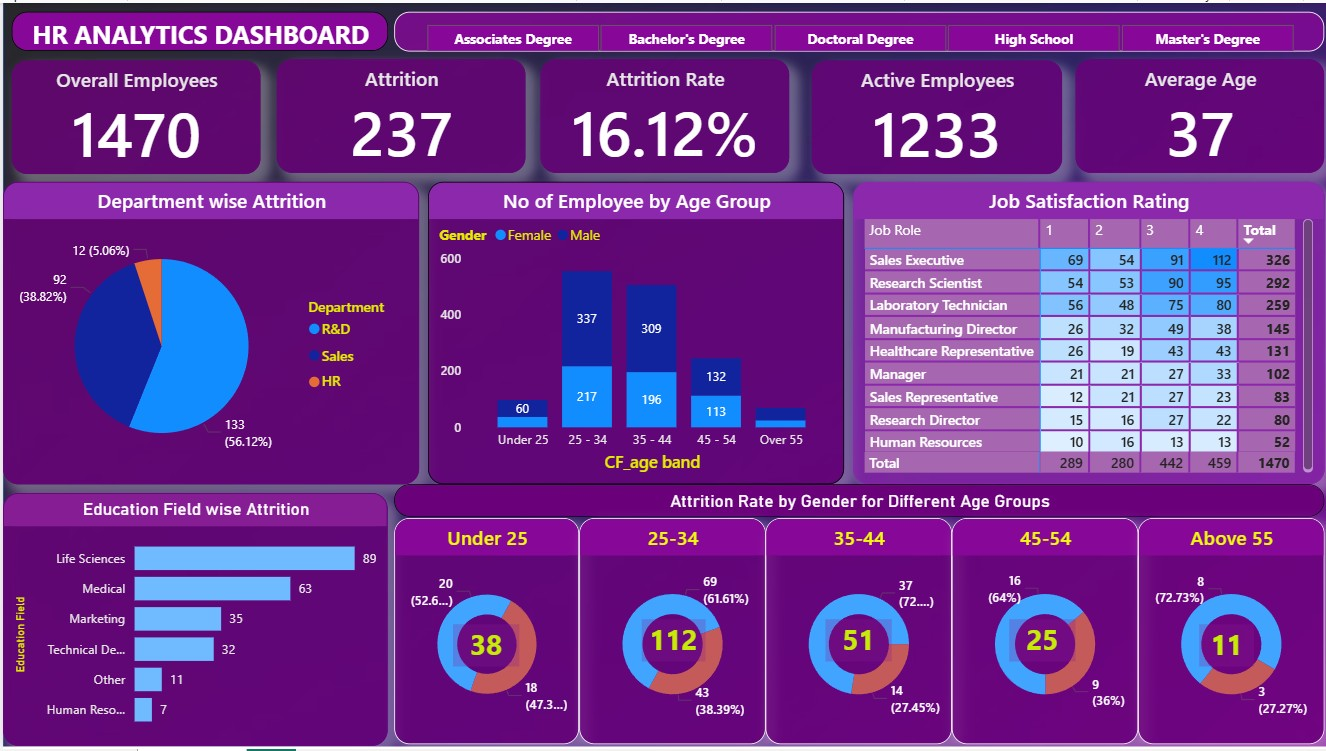

The dashboard page shown, as its layout file describes it:
{"tool":"powerbi","page":{"name":"HR_Data","canvas":[1280,720],"ordinal":0},"visuals":[{"type":"card","title":"Overall Employees","fields":{"Values":["Sum(HR data.Employee Count)"]},"box":[8.4,55.5,240.1,109.8],"z":0},{"type":"card","title":"Attrition","fields":{"Values":["Sum(HR data.Attrition Count)"]},"box":[264.2,54.3,240.1,109.8],"z":1000},{"type":"card","title":"Attrition Rate","fields":{"Values":["HR data.Attrition Rate"]},"box":[518.8,54.3,240.1,109.8],"z":2000},{"type":"card","title":"Active Employees","fields":{"Values":["HR data.Active Employees"]},"box":[780.6,55.5,241.3,109.8],"z":3000},{"type":"card","title":"Average Age","fields":{"Values":["Avg(HR data.Age)"]},"box":[1035.1,54.3,240.1,109.8],"z":4000},{"type":"pieChart","title":"Department wise Attrition ","fields":{"Category":["HR data.Department"],"Y":["Sum(HR data.Attrition Count)"]},"box":[0,172.5,401.7,292],"z":5000},{"type":"columnChart","title":"No of Employee by Age Group","fields":{"Category":["HR data.CF_age band"],"Y":["Sum(HR data.Employee Count)"],"Series":["HR data.Gender"]},"box":[410.2,172.5,401.7,292],"z":6000},{"type":"pivotTable","title":"Job Satisfaction Rating","fields":{"Rows":["HR data.Job Role"],"Values":["Sum(HR data.Employee Count)"],"Columns":["HR data.Job Satisfaction"]},"box":[820.4,172.5,454.8,292],"z":7000},{"type":"barChart","title":"Education Field wise Attrition","fields":{"Category":["HR data.Education Field"],"Y":["Sum(HR data.Attrition Count)"]},"box":[0,472.9,371.6,243.7],"z":8000},{"type":"donutChart","title":"Under 25","fields":{"Category":["HR data.Gender"],"Y":["Sum(HR data.Attrition Count)"],"Series":["HR data.CF_age band"]},"box":[377.6,497.1,178.6,218.4],"z":9000},{"type":"textbox","title":"Attrition Rate by Gender for Different Age Groups","box":[377.6,464.5,897.6,31.4],"z":10000},{"type":"donutChart","title":"25-34","fields":{"Category":["HR data.Gender"],"Y":["Sum(HR data.Attrition Count)"],"Series":["HR data.CF_age band"]},"box":[556.2,497.1,179.8,218.4],"z":11000},{"type":"donutChart","title":"35-44","fields":{"Category":["HR data.Gender"],"Y":["Sum(HR data.Attrition Count)"],"Series":["HR data.CF_age band"]},"box":[735.9,497.1,179.8,218.4],"z":12000},{"type":"donutChart","title":"45-54","fields":{"Category":["HR data.Gender"],"Y":["Sum(HR data.Attrition Count)"],"Series":["HR data.CF_age band"]},"box":[915.7,497.1,179.8,218.4],"z":13000},{"type":"donutChart","title":"Above 55","fields":{"Category":["HR data.Gender"],"Y":["Sum(HR data.Attrition Count)"],"Series":["HR data.CF_age band"]},"box":[1095.4,497.1,179.8,218.4],"z":14000},{"type":"card","fields":{"Values":["Sum(HR data.Attrition Count)"]},"box":[434.3,599.6,63.9,41],"z":15000},{"type":"card","fields":{"Values":["Sum(HR data.Attrition Count)"]},"box":[616.5,594.8,61.5,41],"z":16000},{"type":"card","fields":{"Values":["Sum(HR data.Attrition Count)"]},"box":[1154.6,599.6,53.1,41],"z":17000},{"type":"card","fields":{"Values":["Sum(HR data.Attrition Count)"]},"box":[793.8,594.8,63.9,41],"z":18000},{"type":"card","fields":{"Values":["Sum(HR data.Attrition Count)"]},"box":[971.2,594.8,63.9,41],"z":19000},{"type":"textbox","title":"HR ANALYTICS DASHBOARD","box":[8.4,8.4,363.1,37.4],"z":20000},{"type":"slicer","fields":{"Values":["HR data.Education"]},"box":[377.6,8.4,897.6,38.6],"z":21000}]}

Visuals, with their boxes in screenshot pixels (x1, y1, x2, y2), scaled from the page's 1280x720 canvas onto the 1326x751 screenshot:
"Overall Employees" card: box=[9, 58, 257, 172]
"Attrition" card: box=[274, 57, 522, 171]
"Attrition Rate" card: box=[537, 57, 786, 171]
"Active Employees" card: box=[809, 58, 1059, 172]
"Average Age" card: box=[1072, 57, 1321, 171]
"Department wise Attrition " pieChart: box=[0, 180, 416, 484]
"No of Employee by Age Group" columnChart: box=[425, 180, 841, 484]
"Job Satisfaction Rating" pivotTable: box=[850, 180, 1321, 484]
"Education Field wise Attrition" barChart: box=[0, 493, 385, 747]
"Under 25" donutChart: box=[391, 519, 576, 746]
"Attrition Rate by Gender for Different Age Groups" textbox: box=[391, 484, 1321, 517]
"25-34" donutChart: box=[576, 519, 762, 746]
"35-44" donutChart: box=[762, 519, 949, 746]
"45-54" donutChart: box=[949, 519, 1135, 746]
"Above 55" donutChart: box=[1135, 519, 1321, 746]
card - Sum(HR data.Attrition Count): box=[450, 625, 516, 668]
card - Sum(HR data.Attrition Count): box=[639, 620, 702, 663]
card - Sum(HR data.Attrition Count): box=[1196, 625, 1251, 668]
card - Sum(HR data.Attrition Count): box=[822, 620, 889, 663]
card - Sum(HR data.Attrition Count): box=[1006, 620, 1072, 663]
"HR ANALYTICS DASHBOARD" textbox: box=[9, 9, 385, 48]
slicer - HR data.Education: box=[391, 9, 1321, 49]
